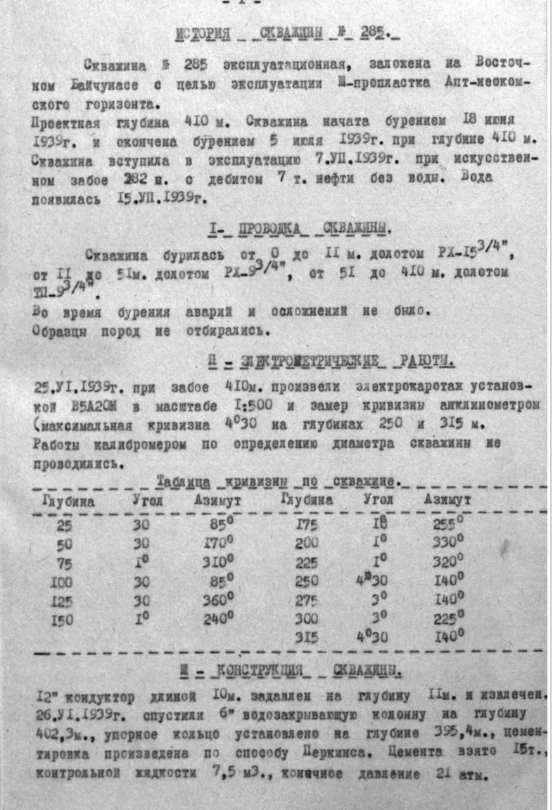Borderless: (17, 487, 550, 655)
